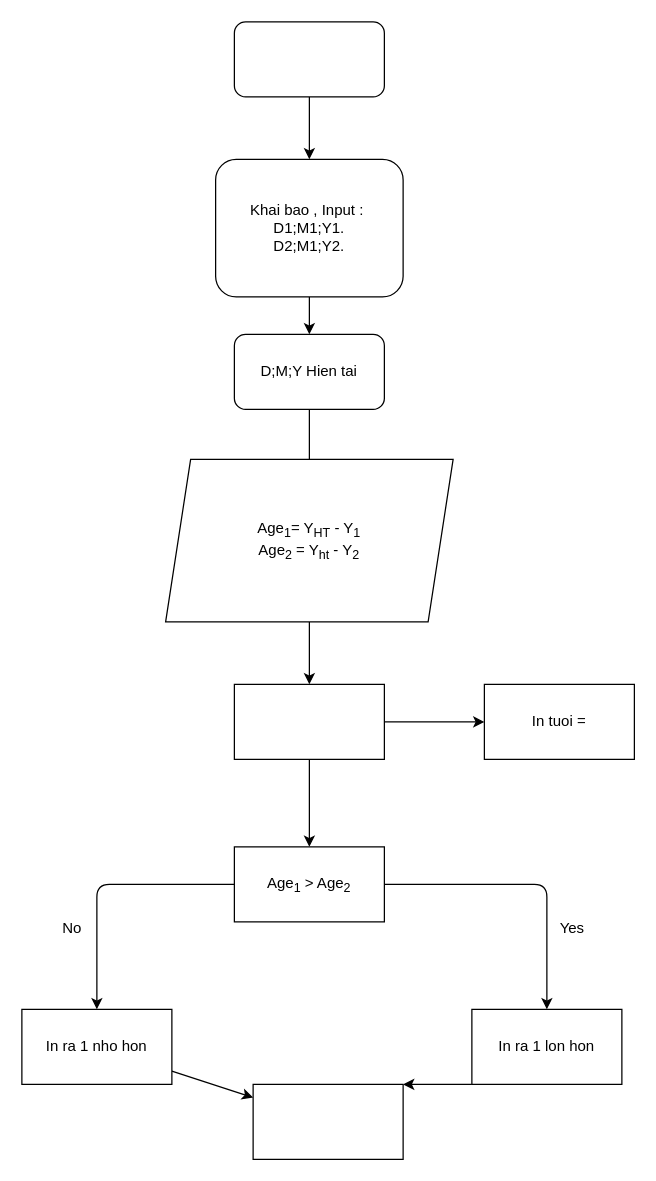
This 656x1181 diagram has some shape labels left out. The shapes that lost their labels are listed below. From the top down, each one's centre as x and y in pixels, then its label:
At point (308, 59): "START".
At point (308, 721): "Age 1 = Age 2".
At point (327, 1121): "END".
